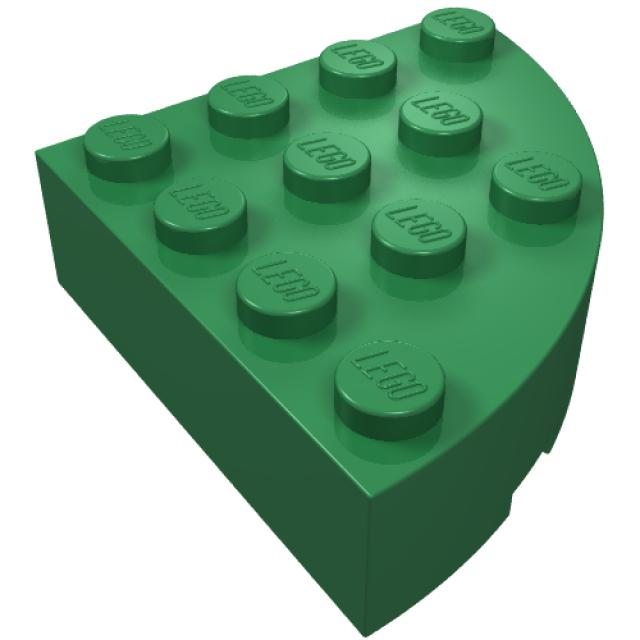Green_Large: (33, 6, 605, 640)
